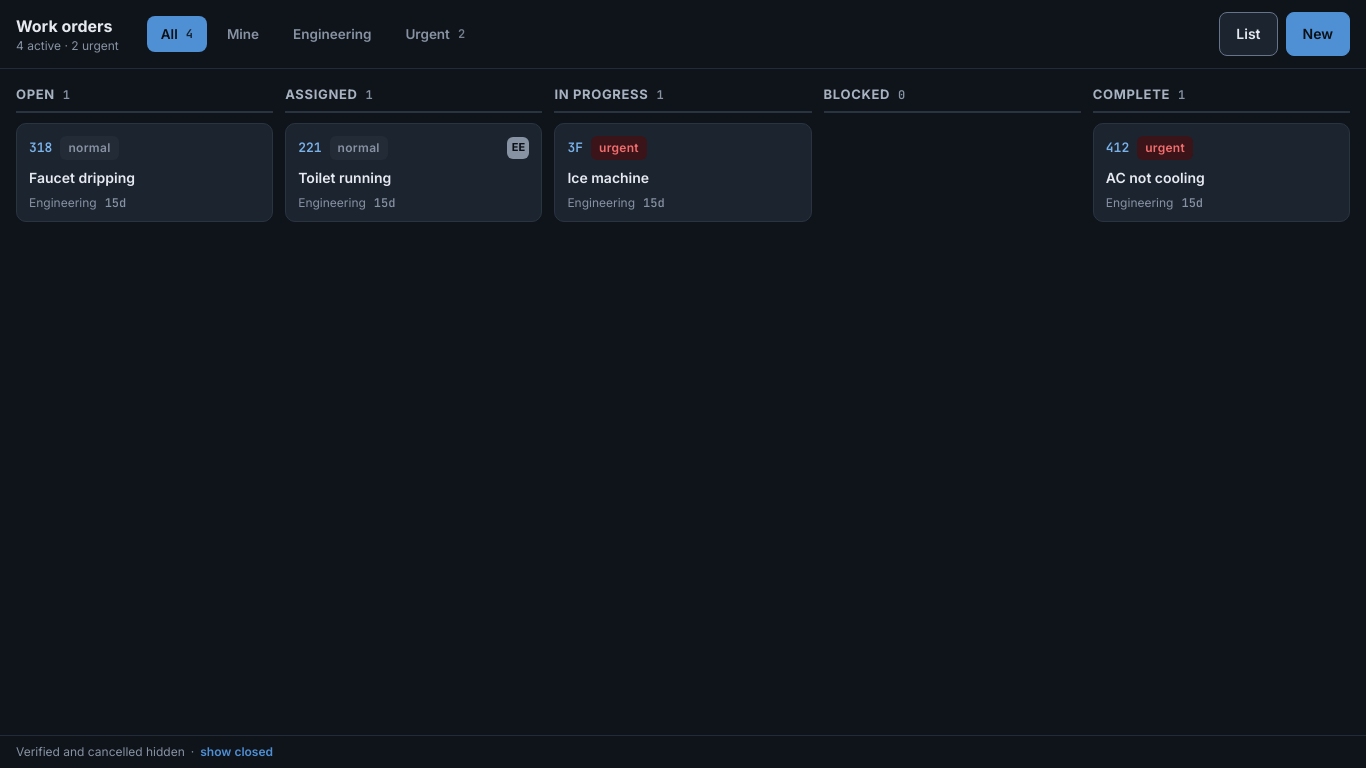
Test: BoardPage › filters to urgent without refetching
Check: the text "Faucet dripping" is shown, box [29,168,135,186]
Click the tab "Urgent 2" at (435, 34), box [391,16,479,52]
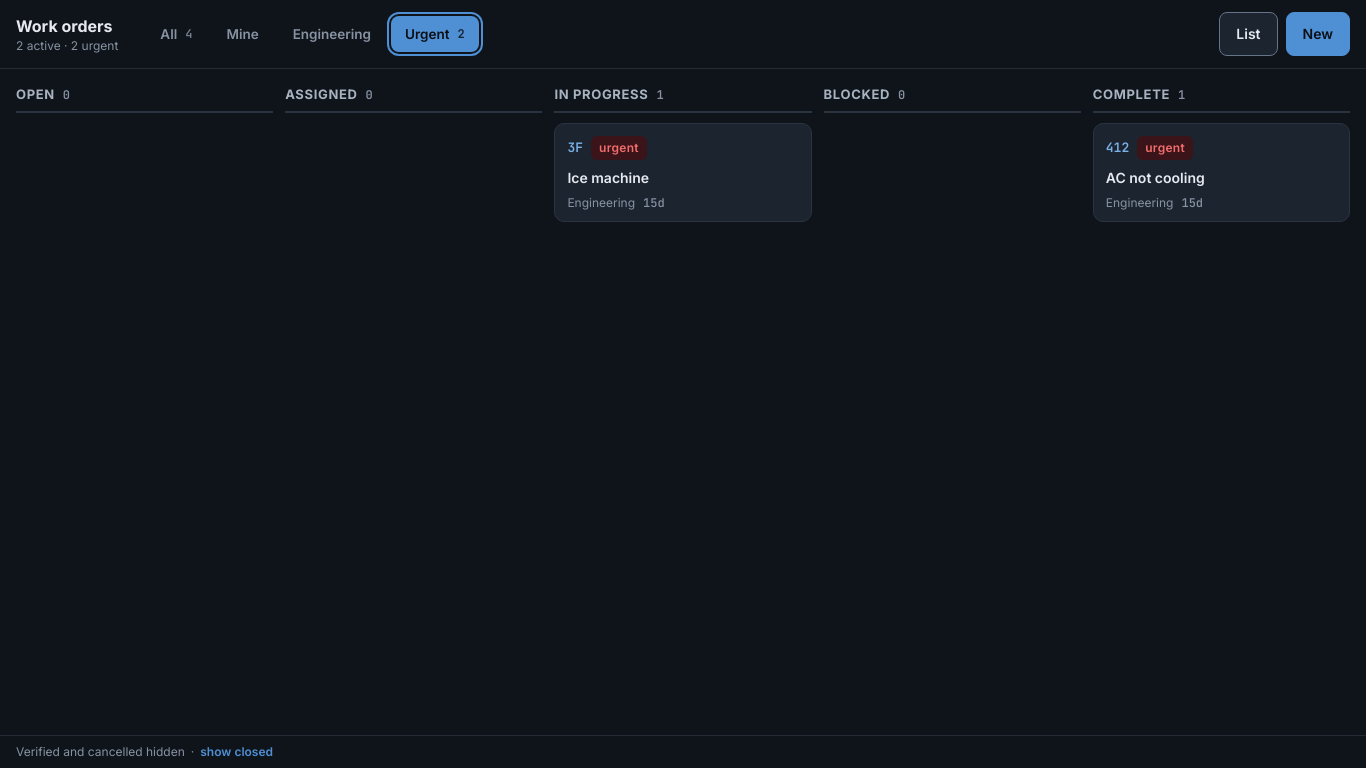
Check: the text "Ice machine" is shown, box [567,168,649,186]
Check: the link "Faucet dripping" is gone
